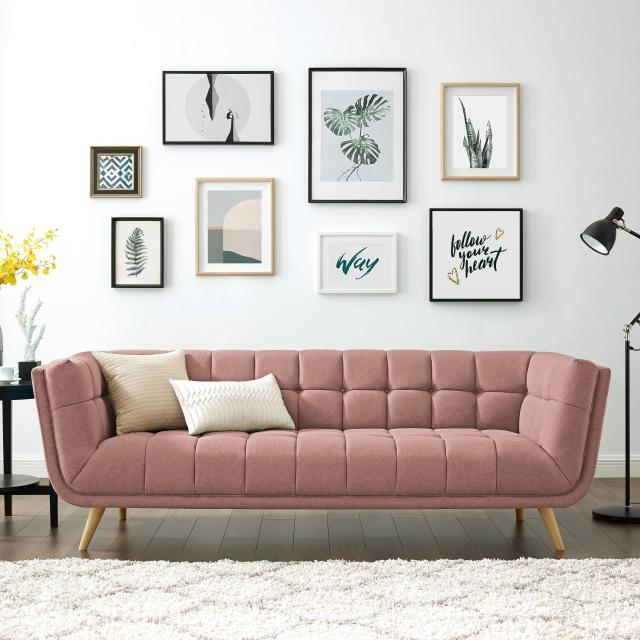sofa: (31, 346, 612, 554)
